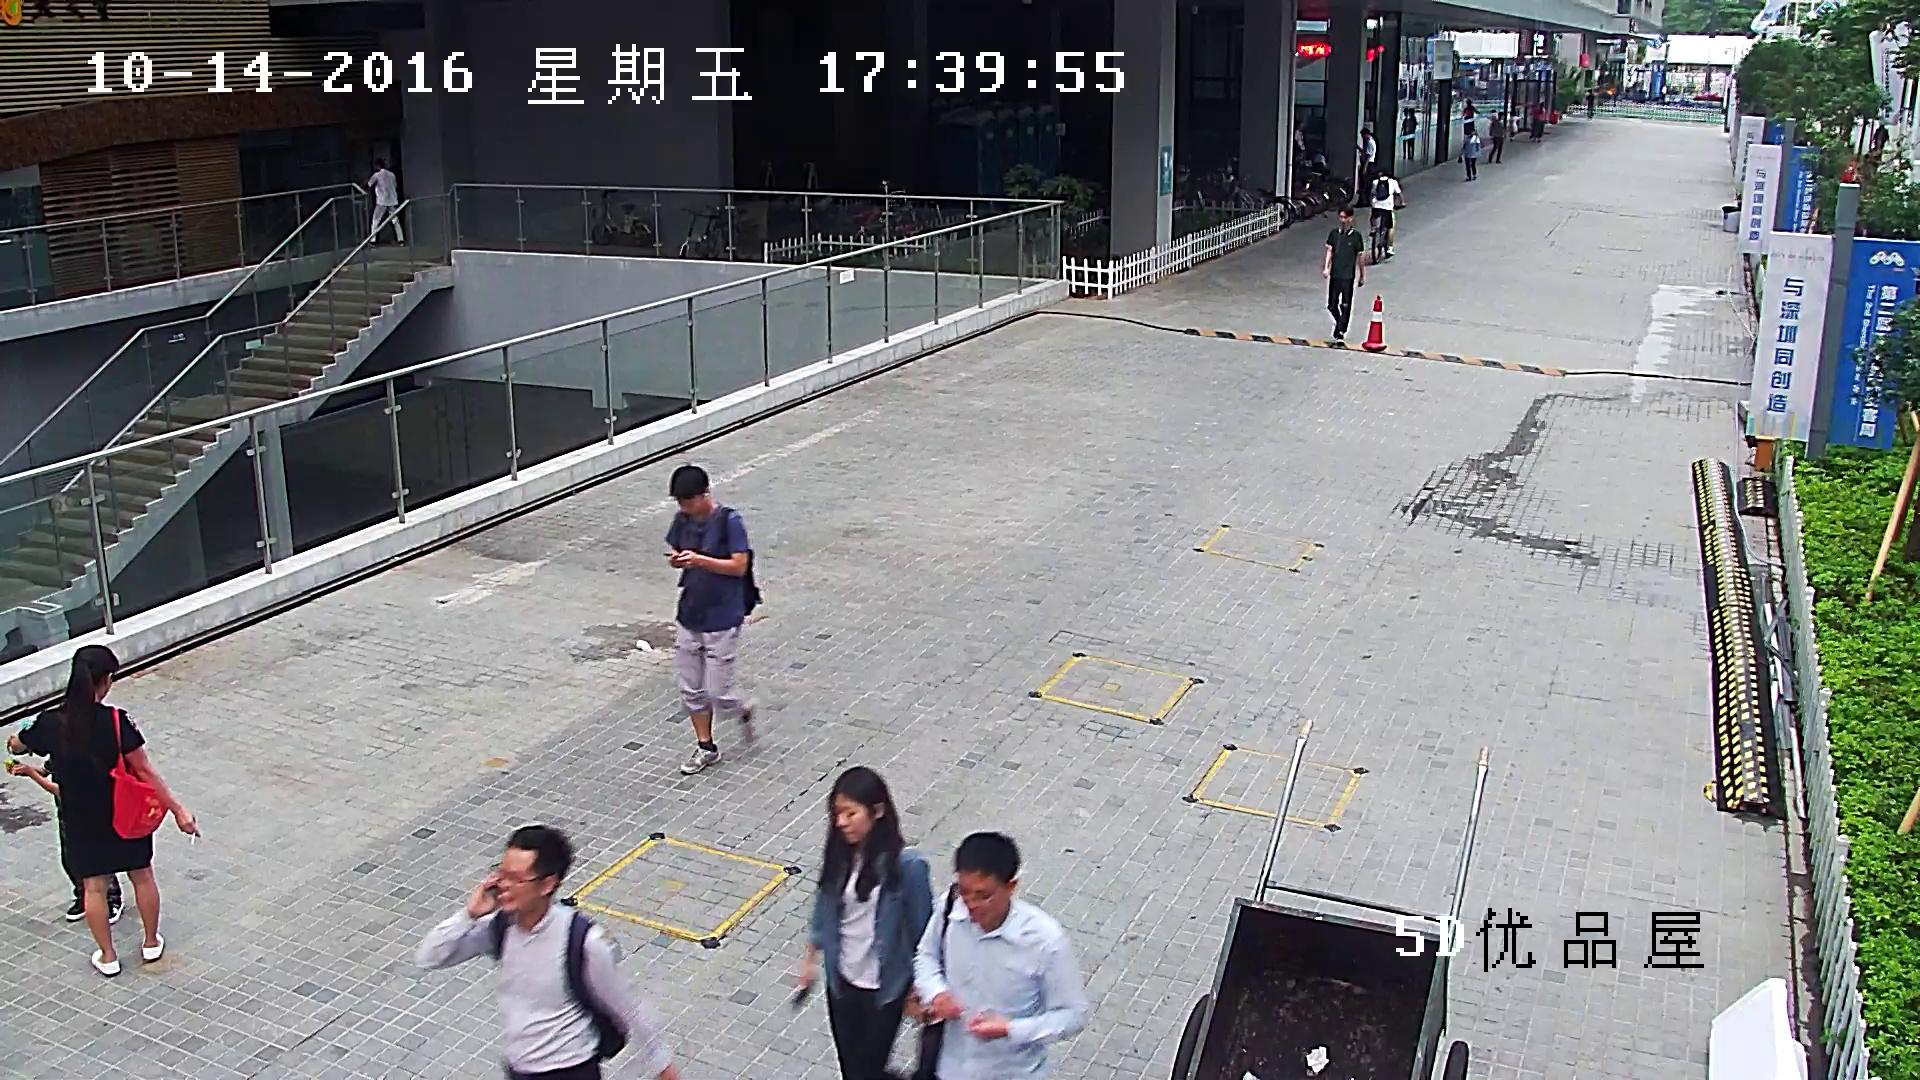person: (413, 824, 678, 1080), (5, 646, 201, 978), (791, 765, 933, 1079), (911, 831, 1089, 1080), (662, 465, 763, 775), (1322, 207, 1363, 345), (1369, 168, 1407, 263), (1369, 168, 1407, 254), (368, 158, 405, 245), (1351, 127, 1375, 207), (1458, 127, 1480, 180), (1487, 111, 1504, 163), (1530, 101, 1546, 142), (1461, 98, 1480, 131), (1292, 119, 1305, 160), (1407, 107, 1416, 160), (1871, 123, 1890, 149), (1400, 107, 1409, 159), (1309, 146, 1326, 167), (1585, 90, 1595, 119)
